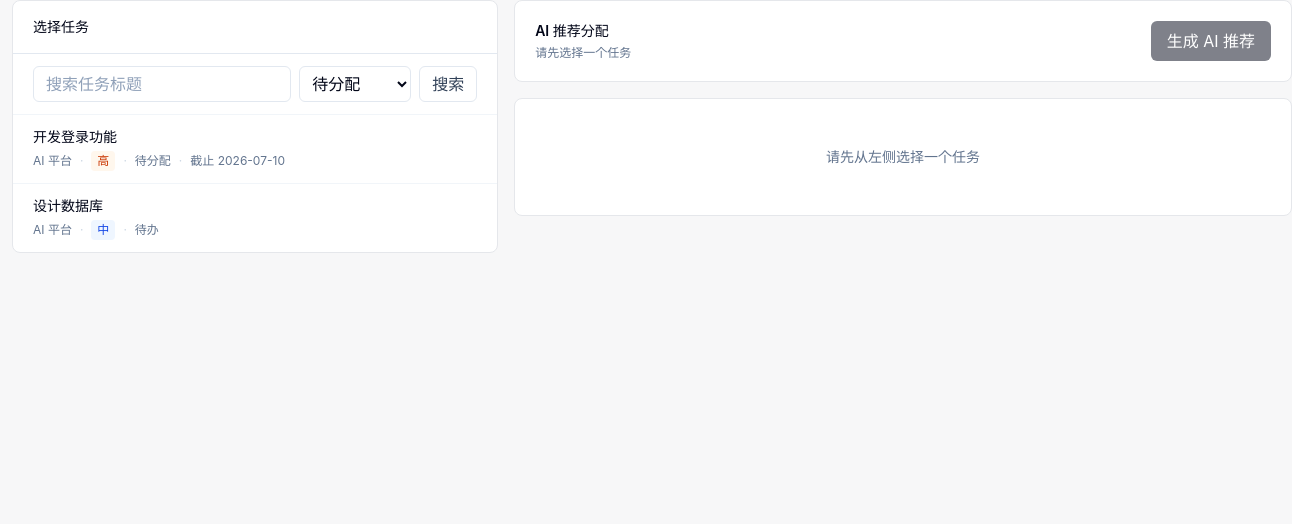
it: AiAssignmentView › loads task detail and latest recommendations when selecting a task
//  点击第一个任务
Click the button "开发登录功能 AI 平台 · 高 · 待分配 · 截止 2026-07-10" at (75, 136), box x1=13 y1=115 x2=497 y2=184
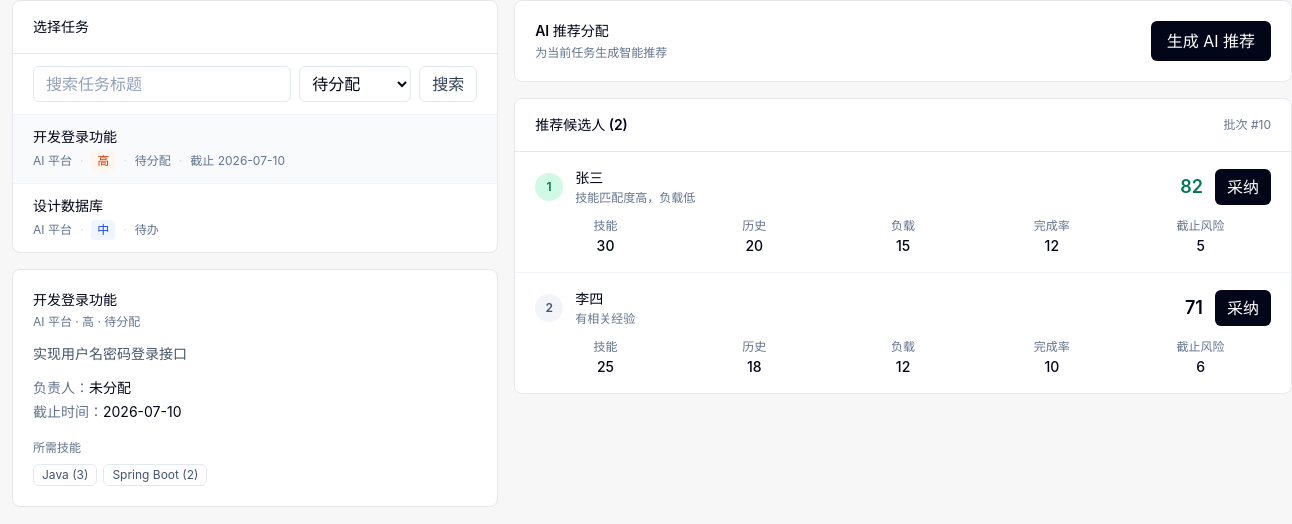
Check: the text "实现用户名密码登录接口" is shown, box x1=33 y1=345 x2=187 y2=362
Check: the text "Java" is shown, box x1=42 y1=467 x2=88 y2=482
Check: the text "Spring Boot" is shown, box x1=112 y1=467 x2=198 y2=482
